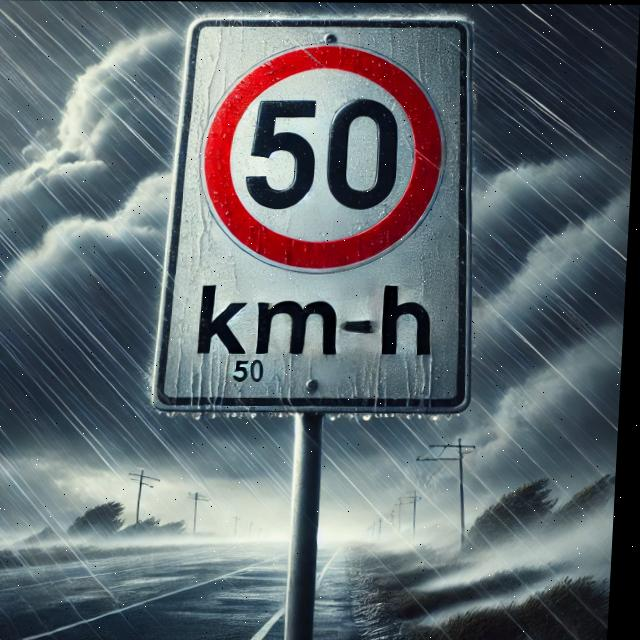Speed limit 50: (154, 14, 491, 416)
